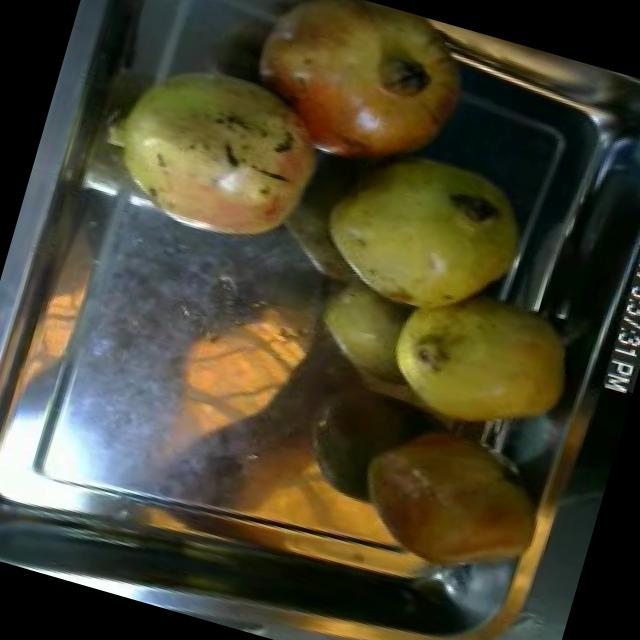fruit: (68, 25, 349, 274), (293, 124, 546, 346), (218, 0, 492, 199), (332, 390, 568, 600), (360, 261, 590, 466)
